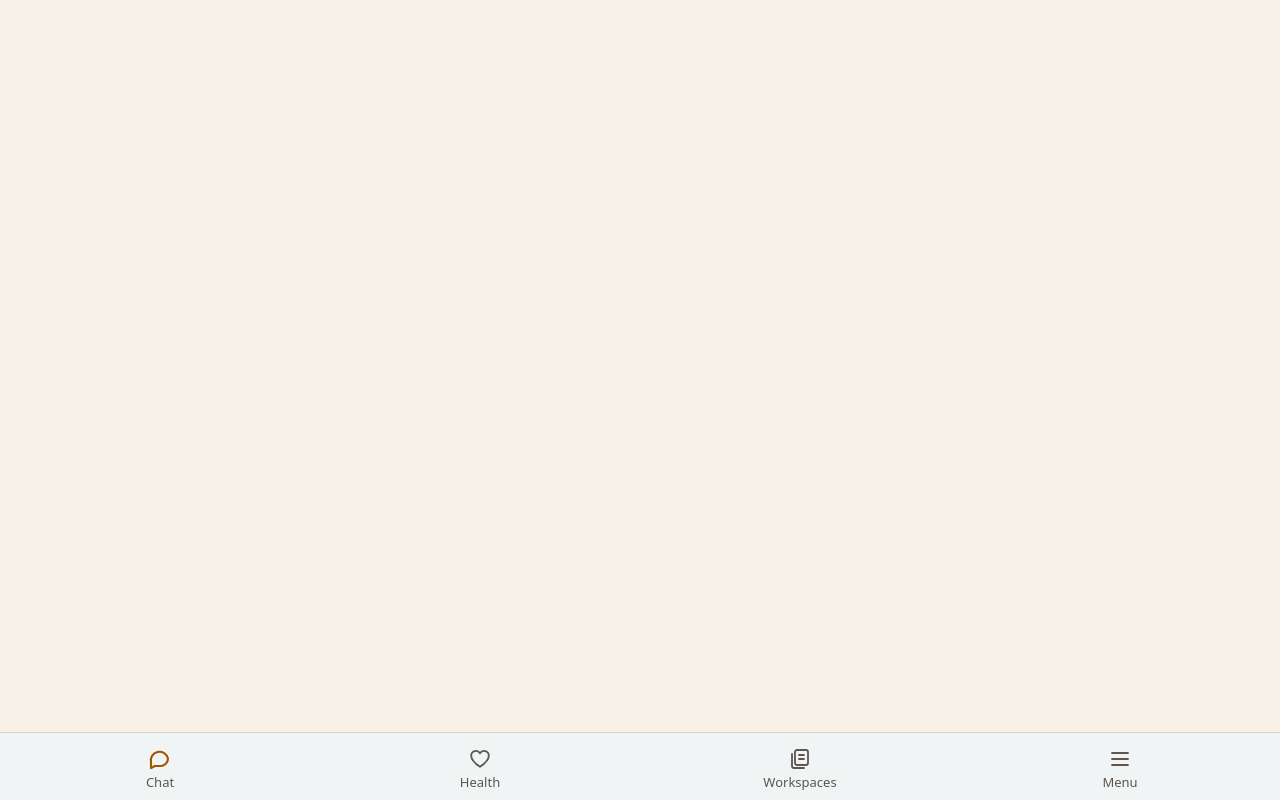
Test: mobile bottom navigation › keeps bottom navigation controls reachable while the menu sheet is open
Click the button "Menu": (1120,768) [960, 737, 1279, 799]
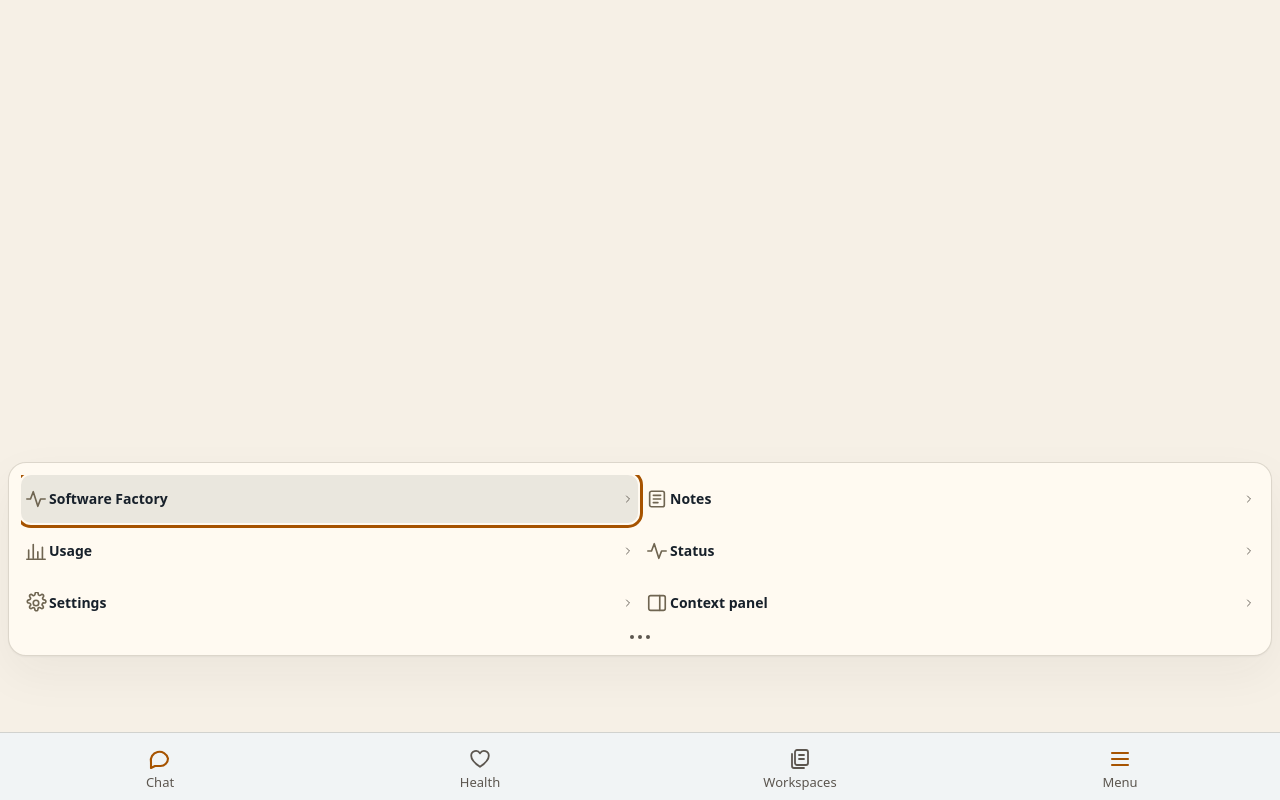
Expected: the dialog named "Go to" is shown, [8, 462, 1272, 656]
Click the button "Workspaces": (800,768) [640, 737, 960, 799]
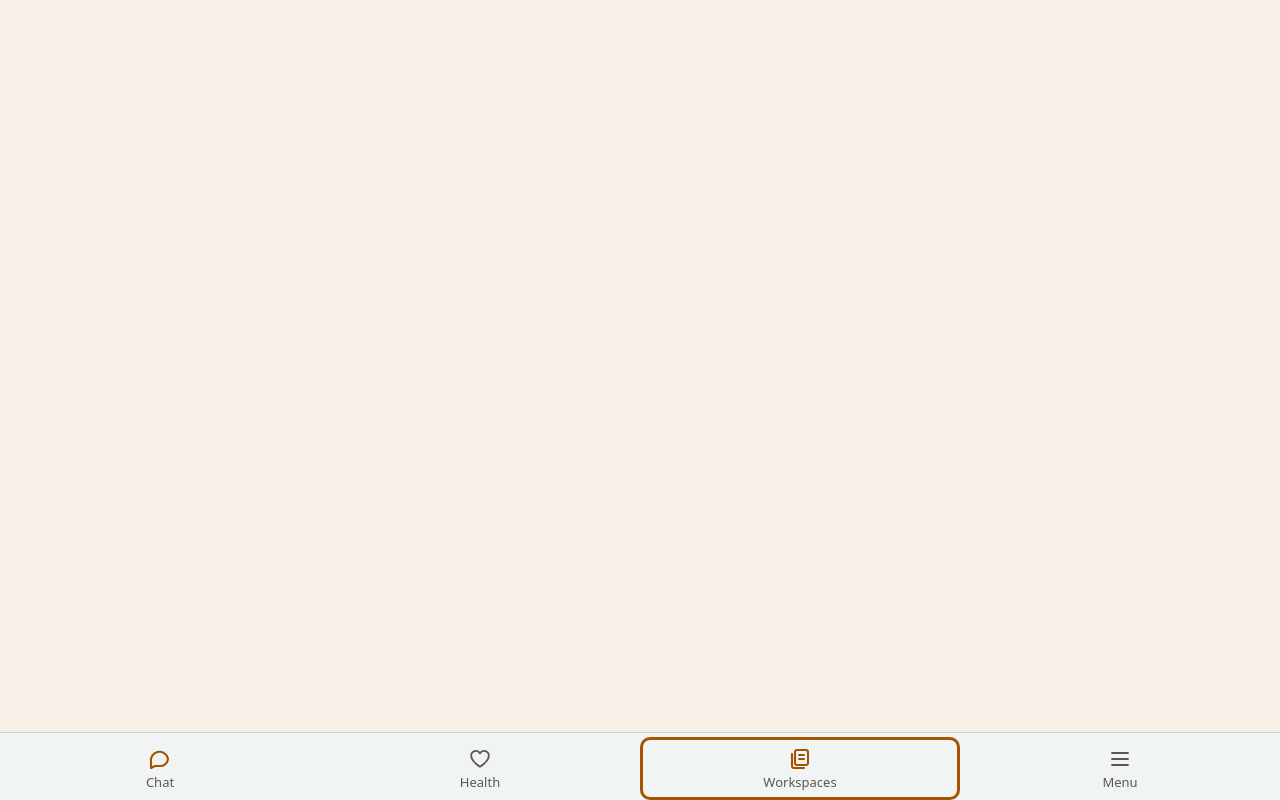
Expected: the dialog is gone
